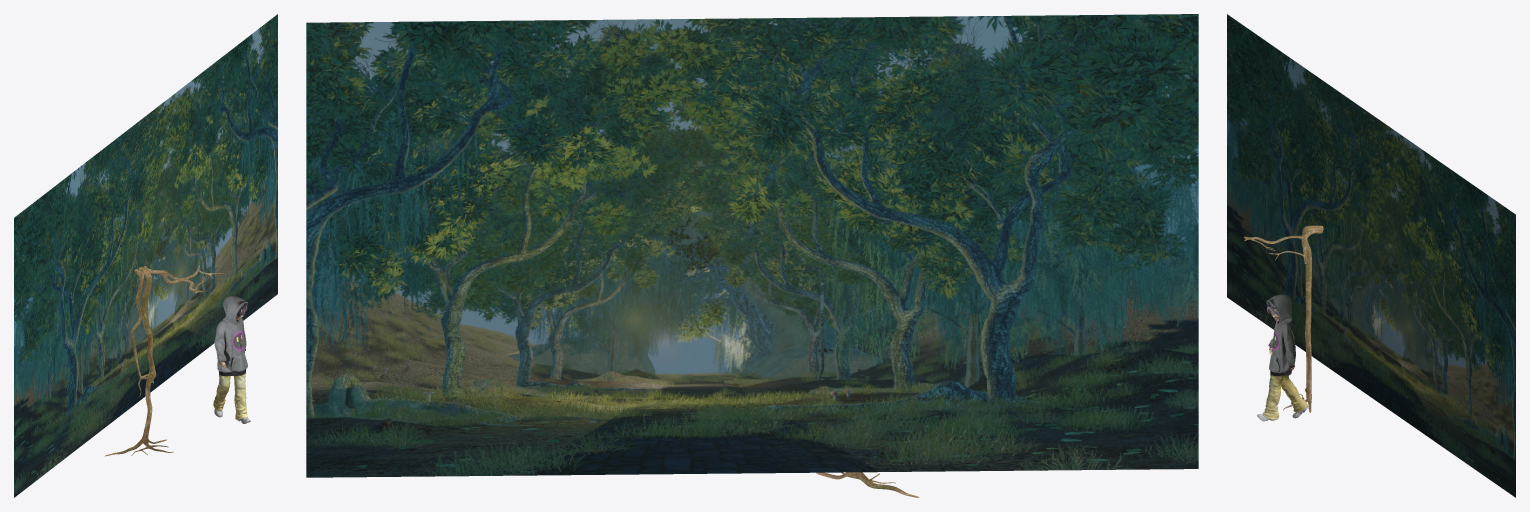
Rendered from shiloh01.glb.
3 views of the same model, side by side, from view 1: azimuth 30°, elevation 25°; view 2: azimuth 150°, elevation 25°; view 3: azimuth 270°, elevation 25° (orthographic). The views are drawn at different scales.
Parts seen in each view (by area): view 1: forest still, root, hoodie sleeves and back, pants, hoodie front; view 2: forest still; view 3: forest still, root, hoodie sleeves and back, pants, hoodie front.
Part boxes in pixels (x1=…): forest still: x1=14, y1=14, x2=277, y2=497; root: x1=105, y1=265, x2=223, y2=456; hoodie sleeves and back: x1=214, y1=295, x2=247, y2=372; pants: x1=213, y1=373, x2=247, y2=419; hoodie front: x1=218, y1=318, x2=244, y2=372; forest still: x1=306, y1=14, x2=1198, y2=477; forest still: x1=1227, y1=14, x2=1515, y2=497; root: x1=1243, y1=225, x2=1323, y2=412; hoodie sleeves and back: x1=1266, y1=294, x2=1295, y2=372; pants: x1=1262, y1=374, x2=1307, y2=419; hoodie front: x1=1272, y1=322, x2=1288, y2=373.
Size of what is drawn, in the model's own units: 6.02 by 4.26 by 3.66.
15 materials, 12 textured.
